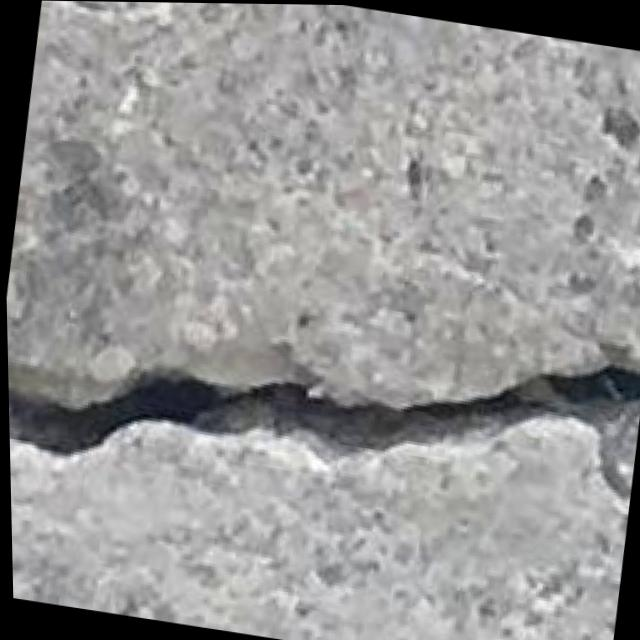Crack: (4, 254, 640, 554)
